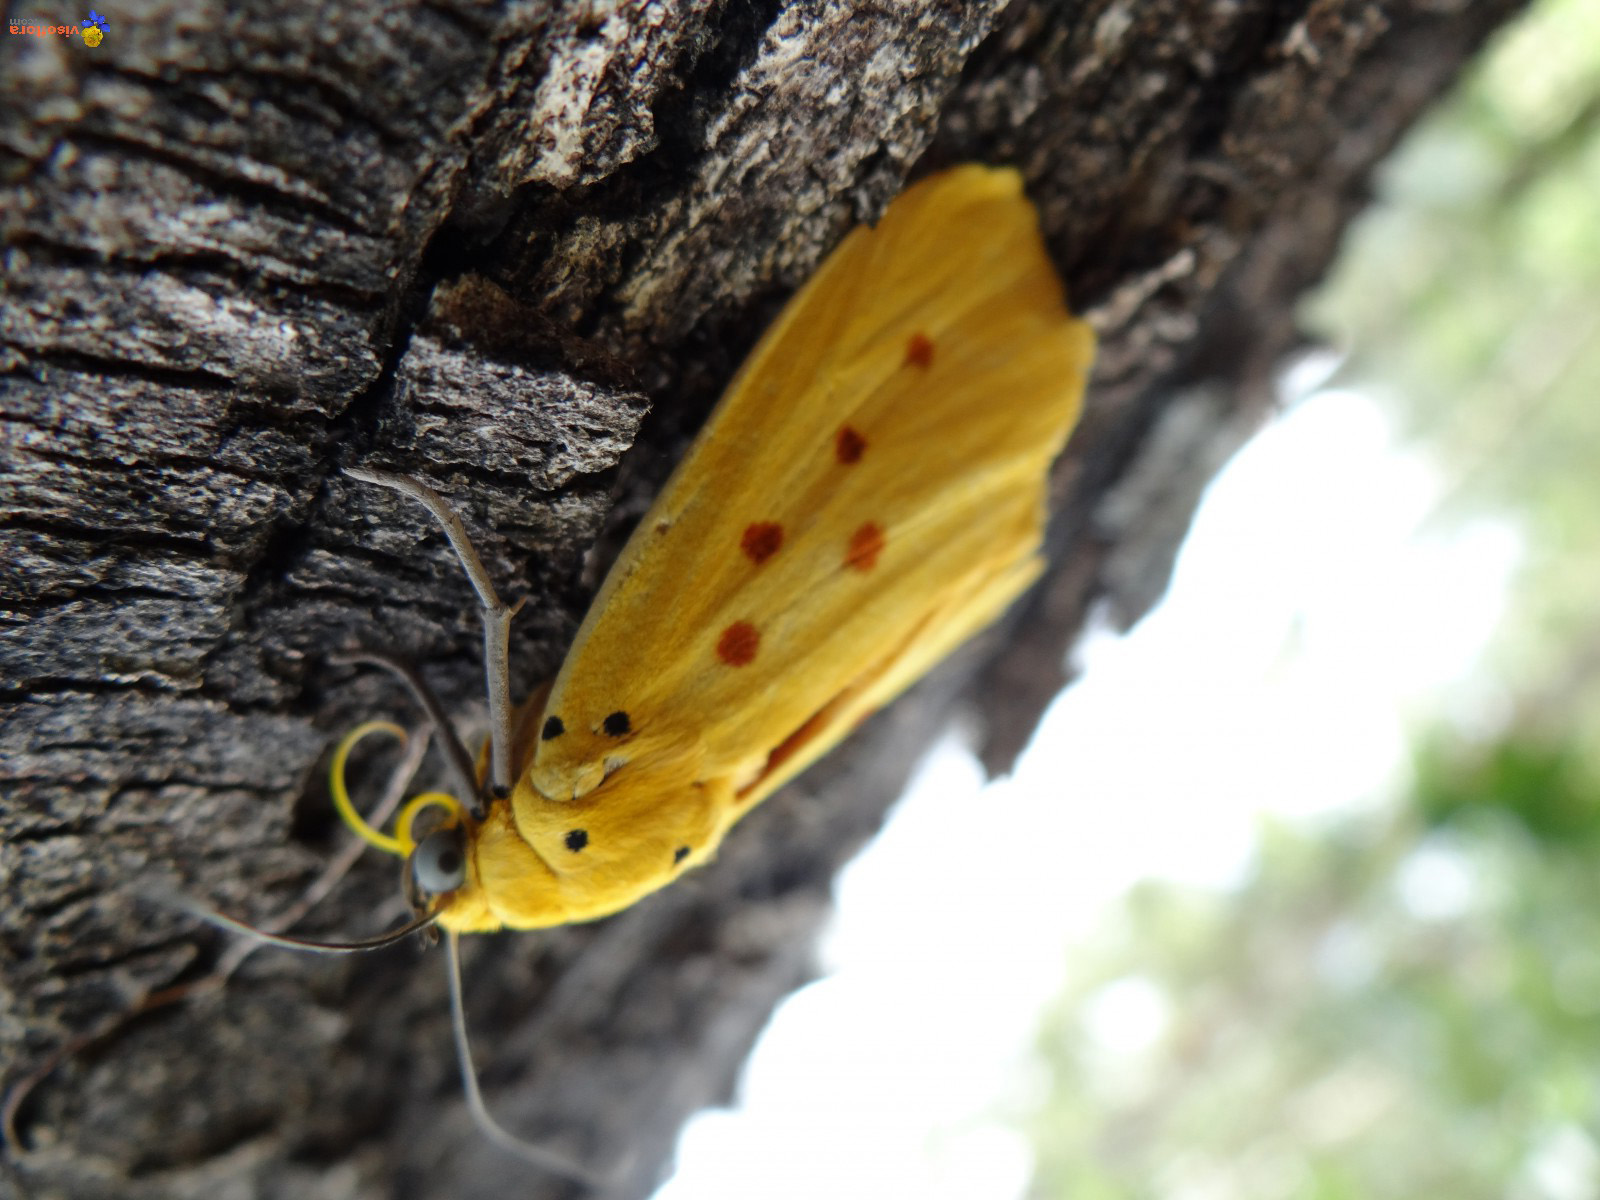Agape chloropyga: (76, 166, 1128, 1186)
moth: (77, 168, 1130, 1187)
